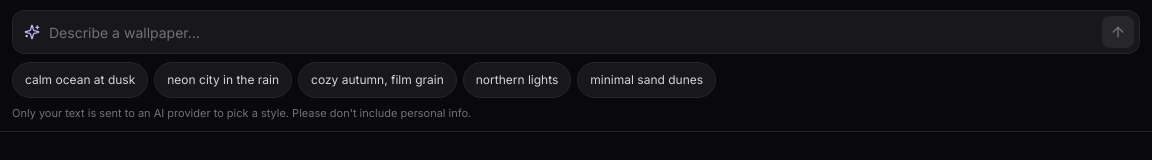
Scenario: AiPromptBar component › enables submit button when prompt length is >= MIN_PROMPT_LENGTH (2 characters)
Type "a" into the field with placeholder "Describe a wallpaper…". click: (576, 32)
box: [12,10,1140,54]
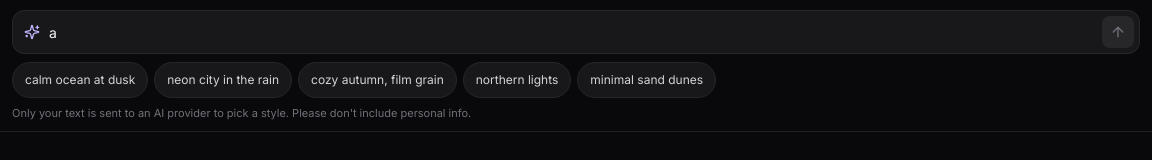
Expected: the button named "Generate wallpaper from description" is disabled, [1102,16,1134,48]
Replace the text in the field with placeholder "Describe a wallpaper…" with "ab". click: (576, 32)
box: [12,10,1140,54]
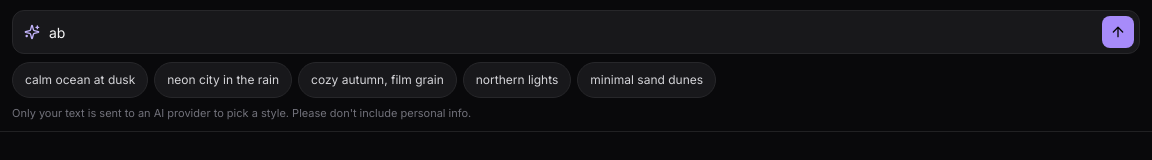
Now the button named "Generate wallpaper from description" is enabled, box [1102,16,1134,48]
